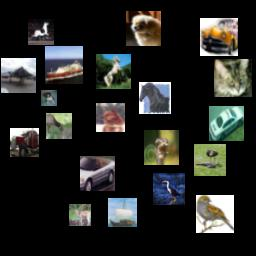airplane: (1, 58, 36, 93)
automobile: (200, 18, 238, 56), (209, 106, 244, 141), (80, 156, 115, 191)
bird: (196, 195, 234, 233), (144, 130, 179, 165), (194, 144, 226, 176), (153, 173, 185, 205)
cat: (214, 59, 252, 97)
deer: (46, 113, 72, 139), (69, 204, 91, 226)
dog: (126, 11, 161, 46), (96, 103, 125, 132), (41, 90, 57, 106)
ship: (45, 46, 83, 84), (108, 198, 137, 227)
truck: (10, 128, 39, 157)
